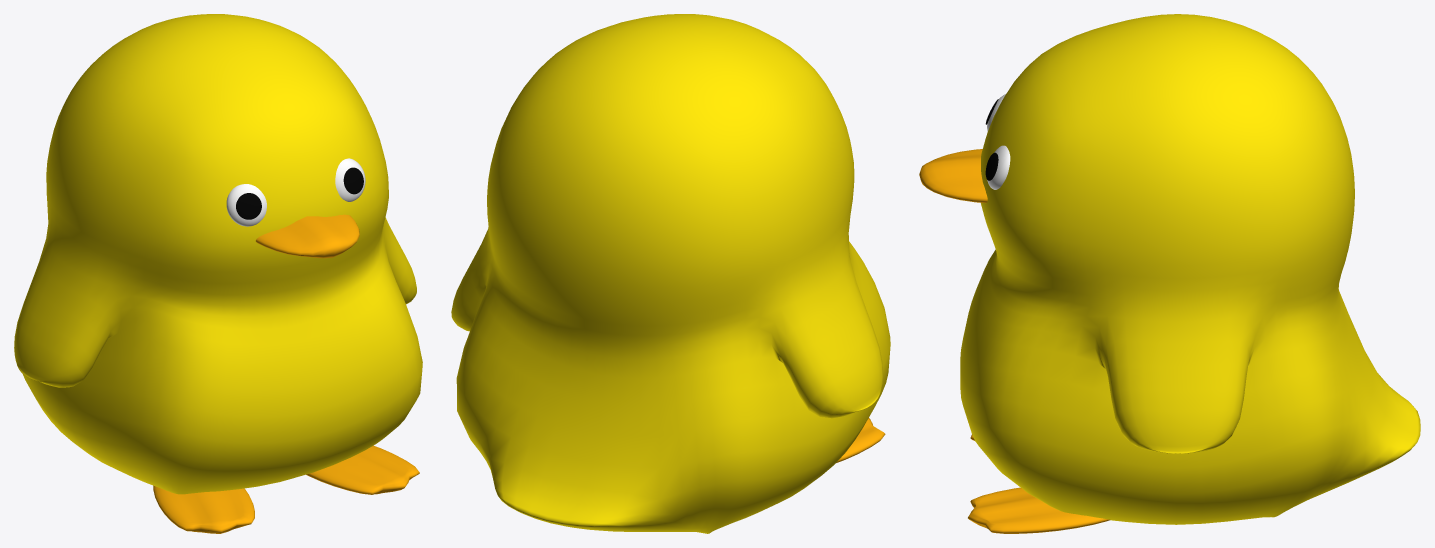
File: duck.fbx
3 renders of one model, left to right at view 1: azimuth 30°, elevation 25°; view 2: azimuth 150°, elevation 25°; view 3: azimuth 270°, elevation 25°, orthographic. The views are drawn at different scales.
Parts seen in each view (by area): view 1: pCube1, pCube3, pCube4, pCube2, pSphere1, pSphere2, pSphere3; view 2: pCube1, pCube3; view 3: pCube1, pCube4, pCube2.
Part boxes in pixels (box(x1,y1,x2,y2)): pCube1: box(14, 14, 422, 494); pCube3: box(153, 485, 254, 533); pCube4: box(306, 445, 419, 494); pCube2: box(256, 214, 359, 258); pSphere1: box(226, 184, 266, 226); pSphere2: box(335, 158, 365, 201); pSphere3: box(236, 193, 261, 219); pCube1: box(451, 14, 890, 533); pCube3: box(836, 418, 885, 462); pCube1: box(960, 14, 1420, 524); pCube4: box(968, 487, 1109, 533); pCube2: box(919, 149, 987, 203).
Size of the model in its own units: 1.13 by 1.17 by 1.19.
